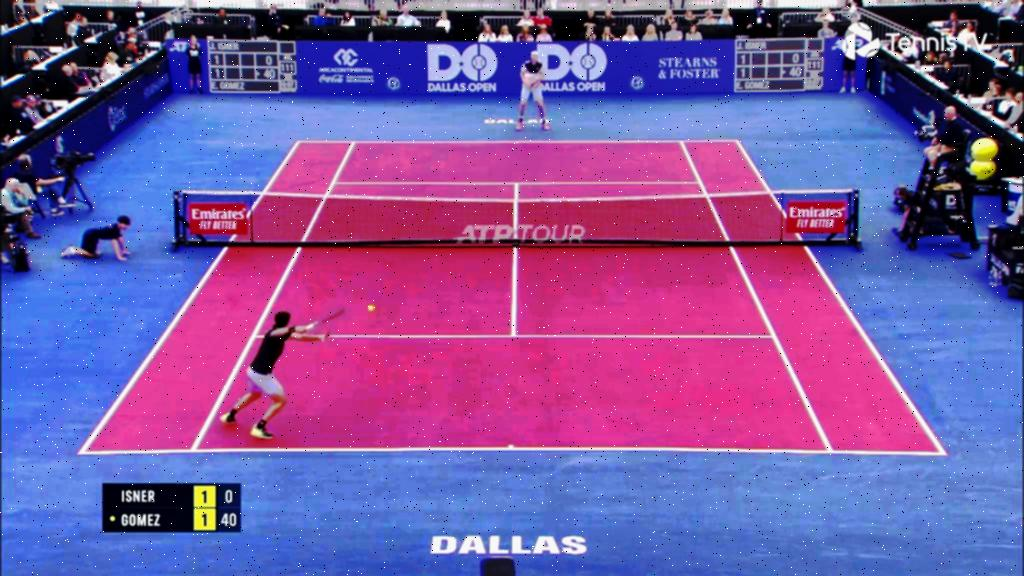tennis-court: (77, 140, 948, 455)
